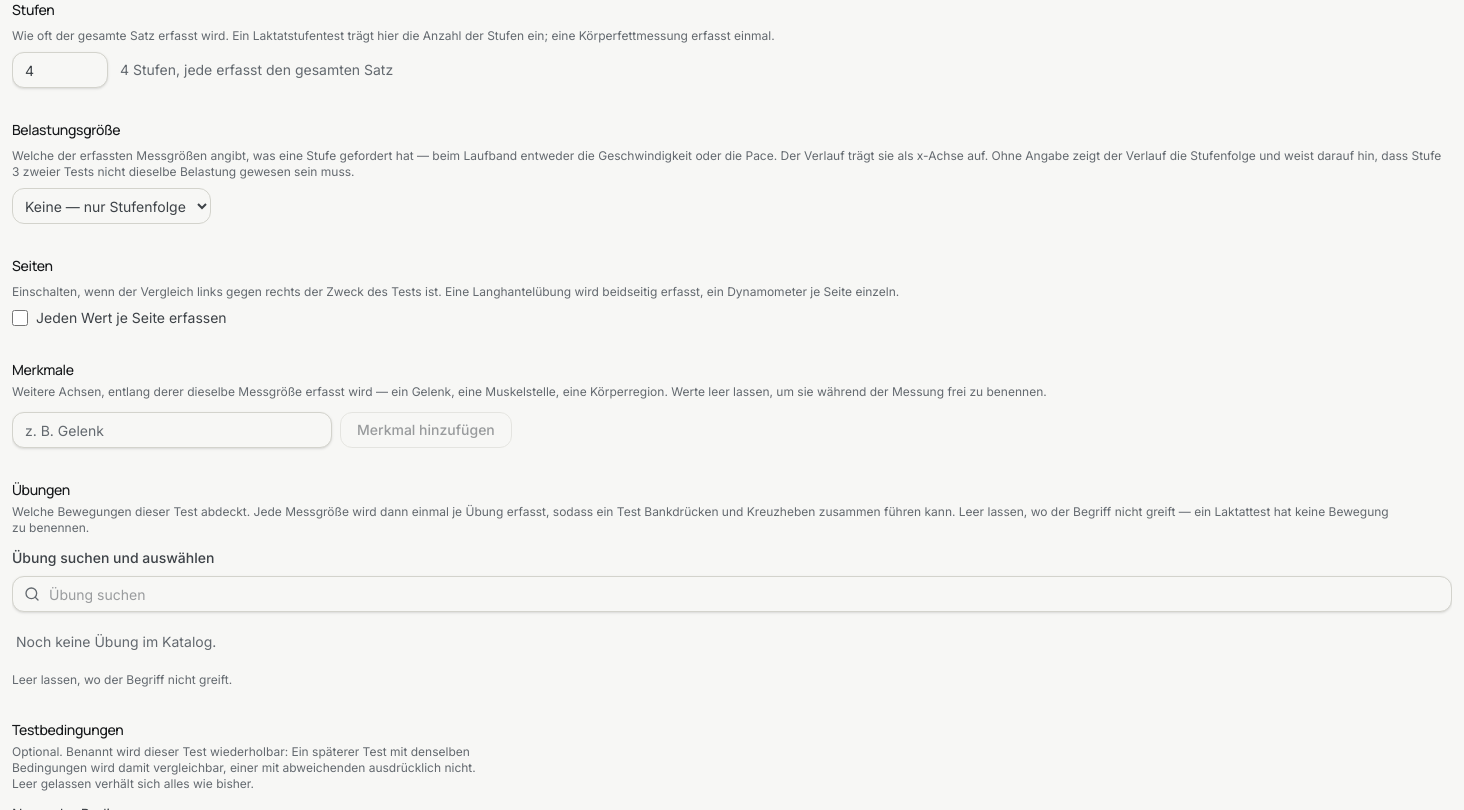
naming the load quantity › hands over what the coach chose
This screenshot has width=1464, height=810.
Select "Pace (min/km)" in the dropdown named "Belastungsgröße". click: (112, 206)
box: x1=12 y1=188 x2=211 y2=224
(page scrolled)
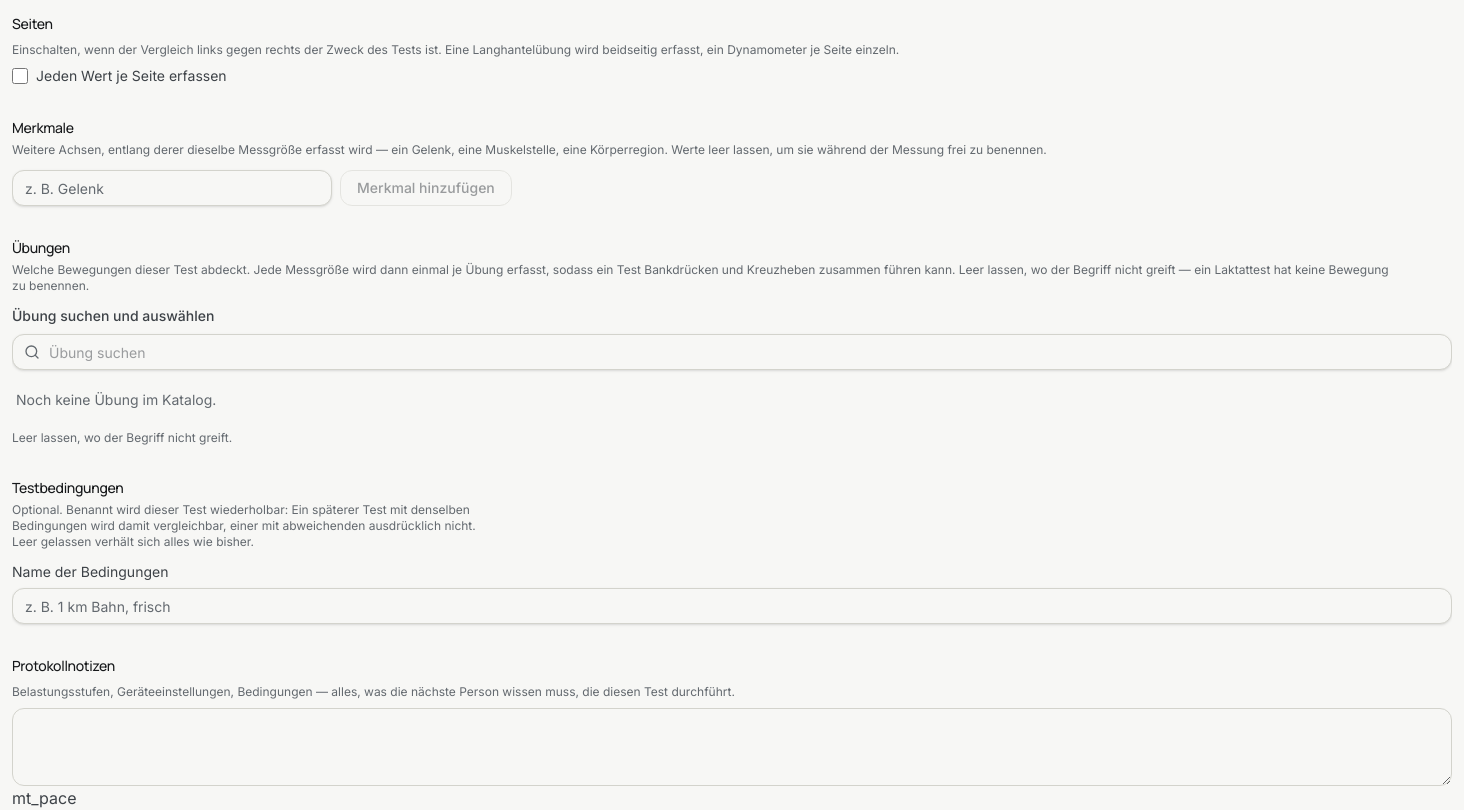
Now the text with test id "load" reads "mt_pace", box x1=12 y1=788 x2=76 y2=808
